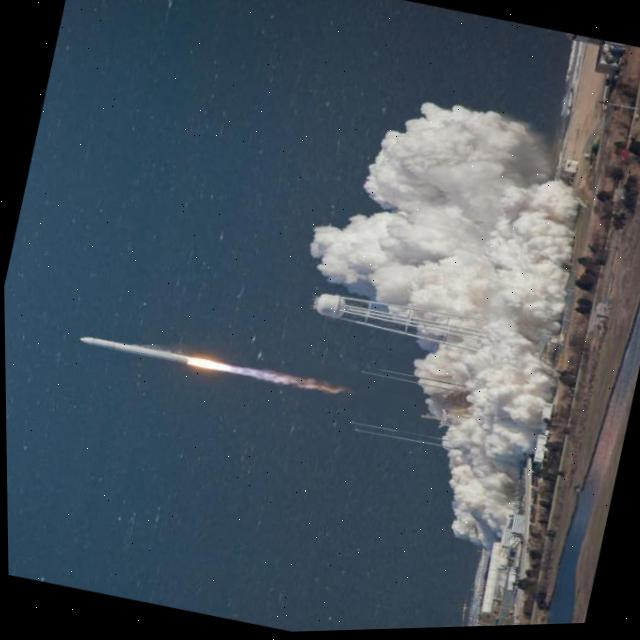missile: (71, 323, 202, 398)
